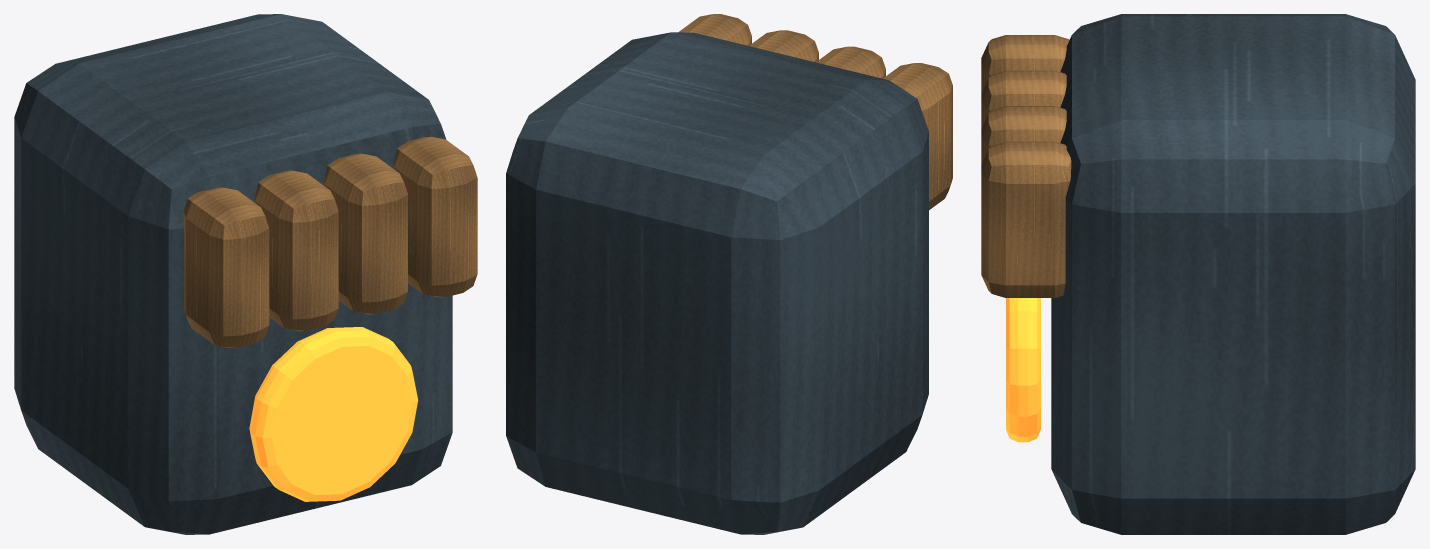
Rendered from gauntlet.glb.
3 views of the same model, side by side, from view 1: azimuth 30°, elevation 25°; view 2: azimuth 150°, elevation 25°; view 3: azimuth 270°, elevation 25° (orthographic). The views are drawn at different scales.
Parts seen in each view (by area): view 1: gauntlet; view 2: gauntlet; view 3: gauntlet.
Boxes of the visible parts, box(x1,y1,x2,y2) form: gauntlet: box(14, 14, 477, 534); gauntlet: box(506, 14, 952, 534); gauntlet: box(981, 14, 1415, 534).
Size of the model in its own units: 0.55 by 0.65 by 0.62.
3 materials, 2 textured.
